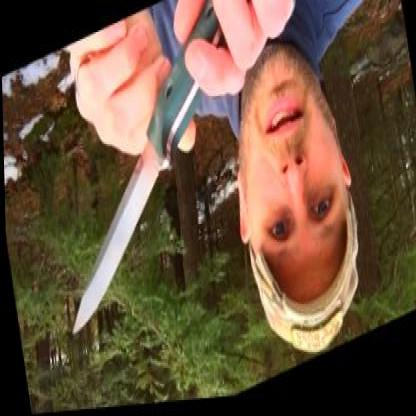knife: (32, 25, 244, 345)
